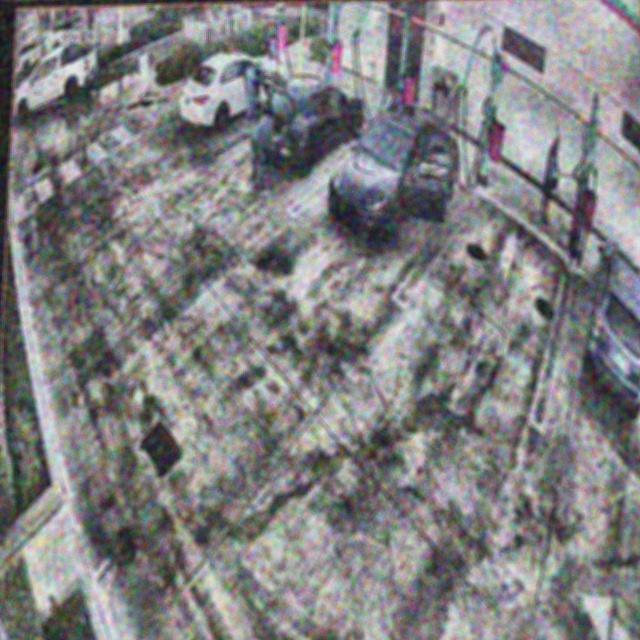Car: (329, 107, 460, 243), (255, 67, 362, 169)
